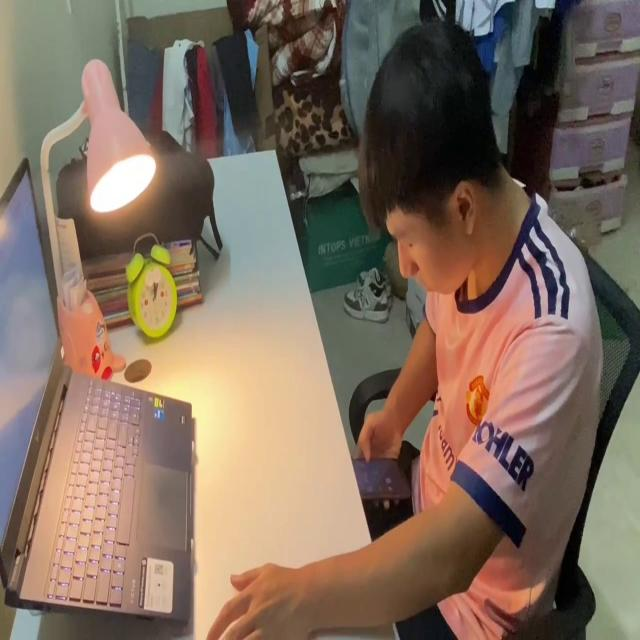laptop: (0, 148, 197, 630)
phone: (349, 448, 415, 507)
student: (205, 18, 596, 640)
